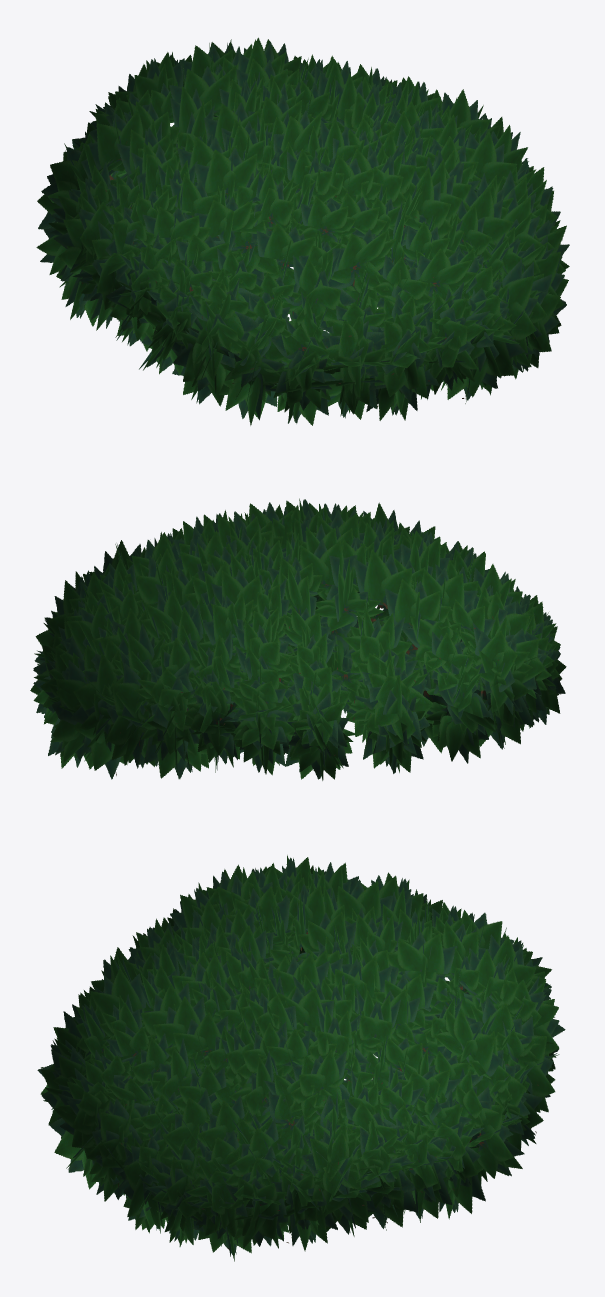
File: TPTreeLeafShape.dae
3 renders of one model, top to bottom at view 1: azimuth 30°, elevation 25°; view 2: azimuth 150°, elevation 25°; view 3: azimuth 270°, elevation 25°, orthographic. The views are drawn at different scales.
Visible parts, largest first — view 1: TPTreeLeaf; view 2: TPTreeLeaf; view 3: TPTreeLeaf.
Part boxes in pixels (<box>): TPTreeLeaf: <box>36,37,569,425</box>; TPTreeLeaf: <box>30,498,566,780</box>; TPTreeLeaf: <box>37,855,565,1261</box>.
Size of the model in its own units: 36.43 by 21.14 by 36.1.
